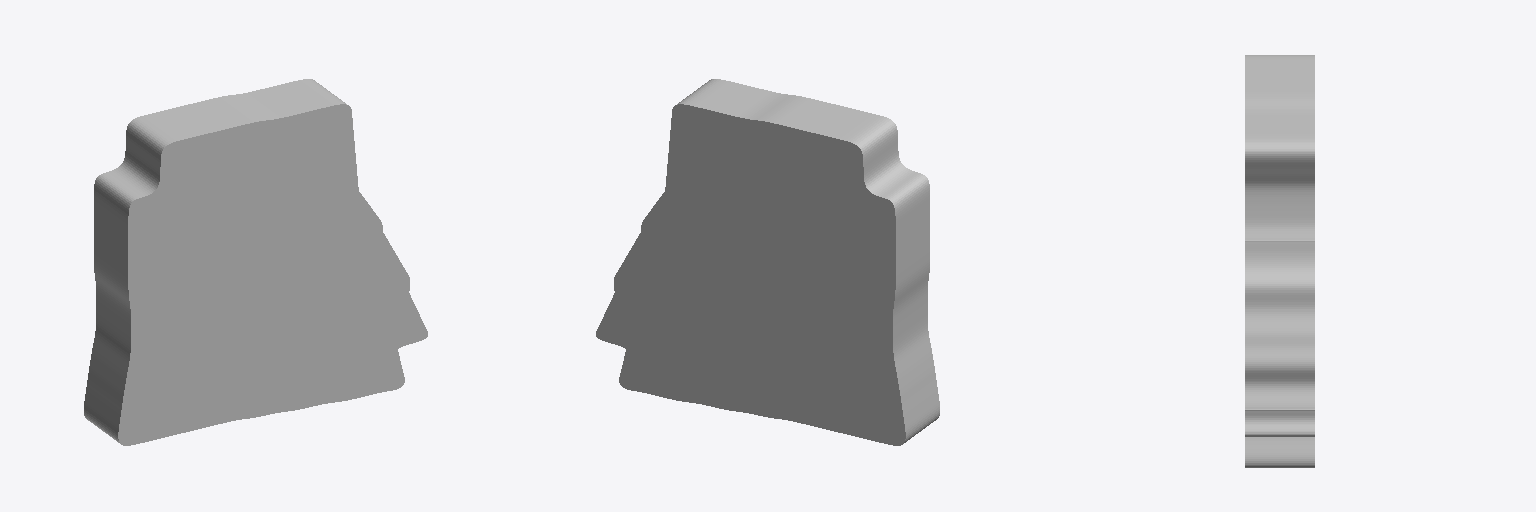
The picture shows the model from 3 angles: view 1: azimuth 30°, elevation 25°; view 2: azimuth 150°, elevation 25°; view 3: azimuth 270°, elevation 25°; orthographic projection.
Parts seen in each view (by area): view 1: 平面; view 2: 平面; view 3: 平面.
Part boxes in pixels (bbox=[...]): 平面: bbox=[84, 79, 427, 445]; 平面: bbox=[596, 79, 939, 445]; 平面: bbox=[1245, 55, 1314, 467].
Size of the model in its own units: 1.03 by 0.9603 by 0.2.